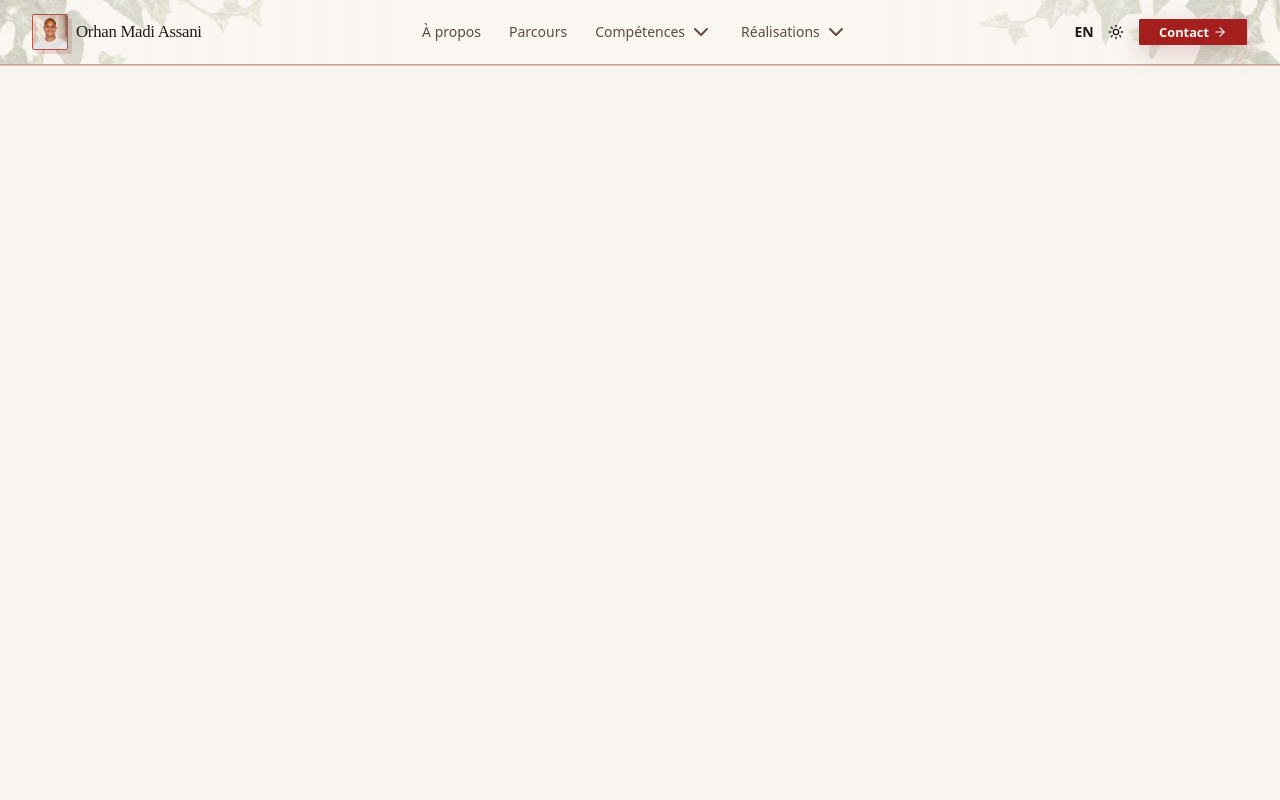
Test: Navbar › closes a desktop submenu when navigating from one of its child links
The image size is (1280, 800).
Expected: the element showing "À propos Parcours Compétences Réalisations" is shown, [410,12,860,52]
Focus the button "Compétences". click: x=654, y=32
box: [583,12,725,52]
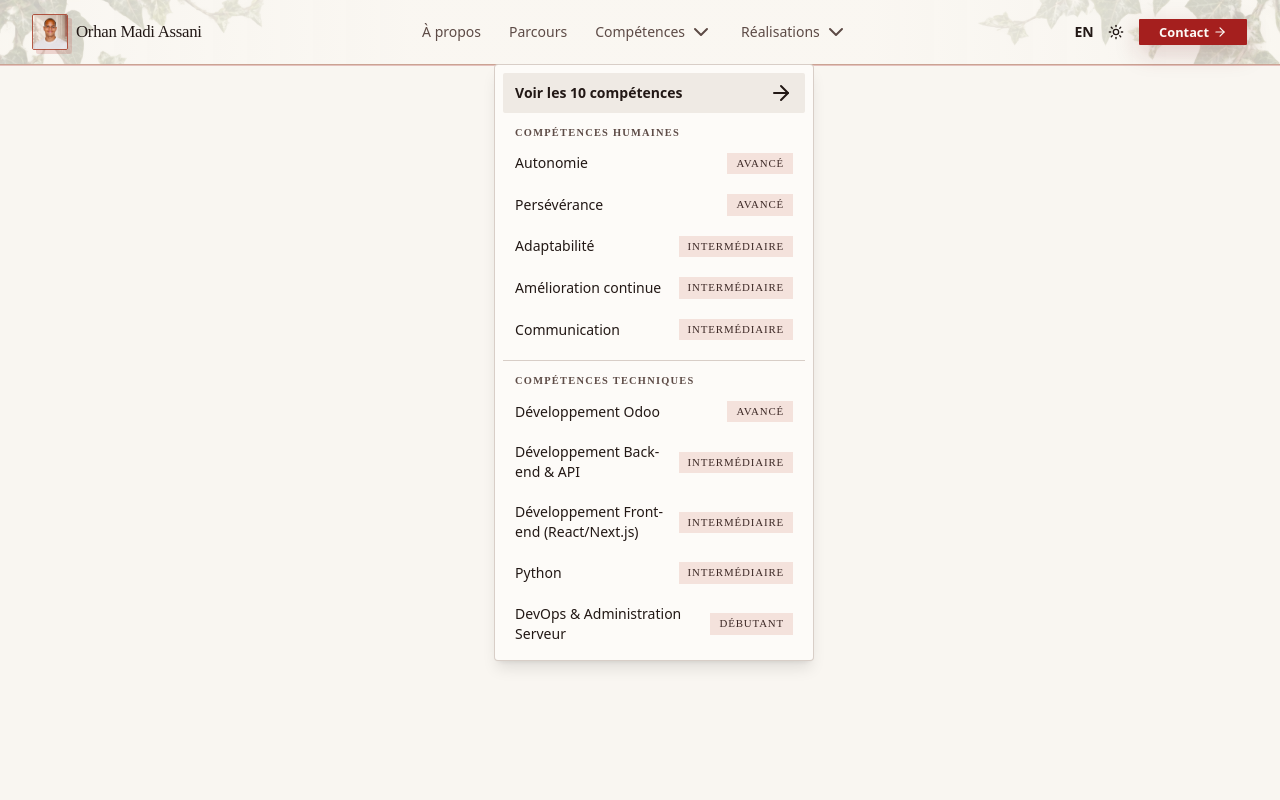
Click the link "Autonomie Avancé". click: x=552, y=163
box: [503,145,805,182]
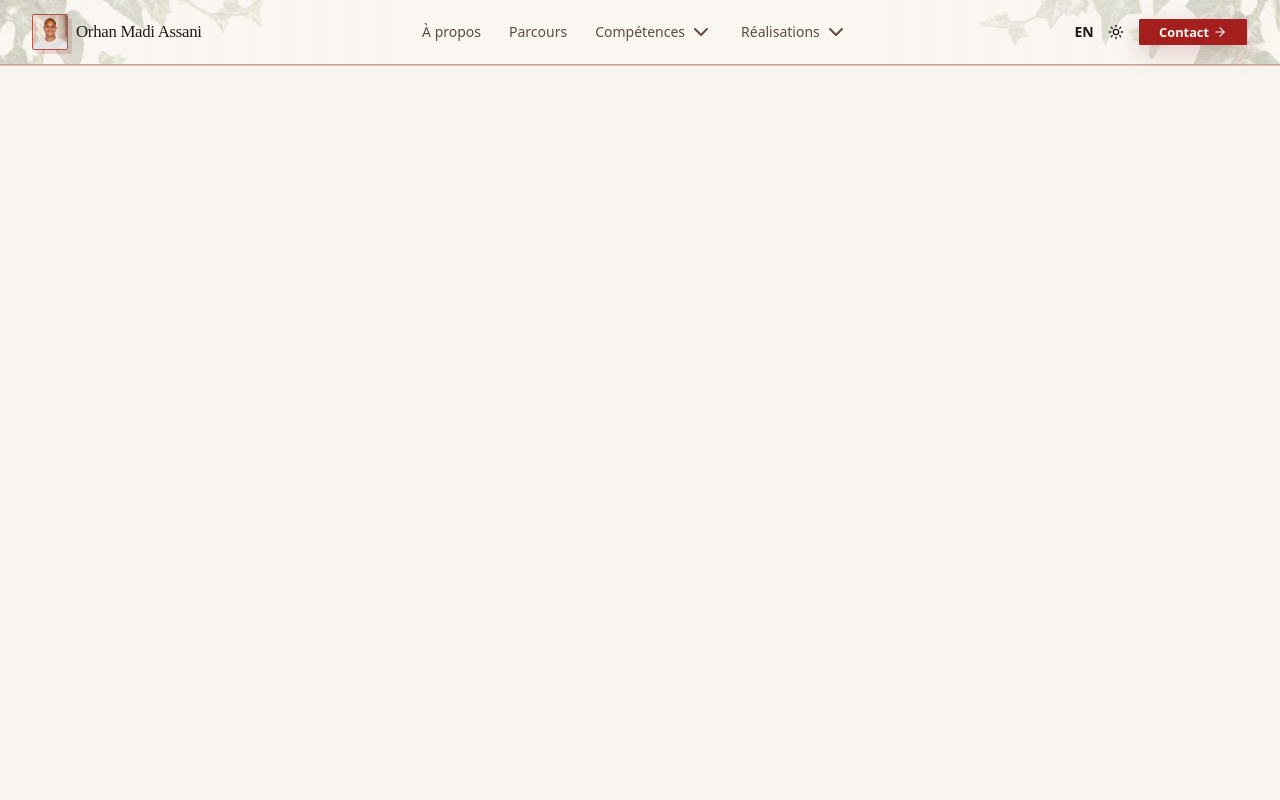
Result: the link "Autonomie" is gone
